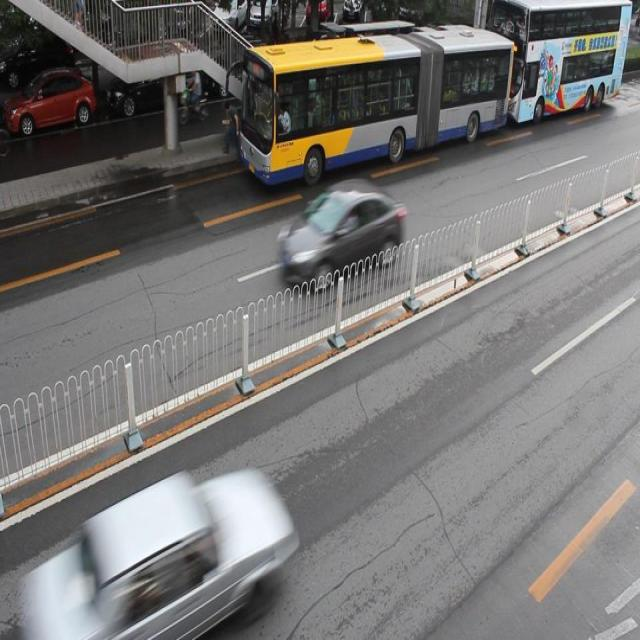car: (65, 470, 285, 640), (278, 179, 402, 288), (1, 68, 96, 135), (104, 53, 198, 111), (208, 36, 278, 100), (291, 38, 363, 96)
van: (241, 21, 512, 178), (485, 1, 630, 119)
